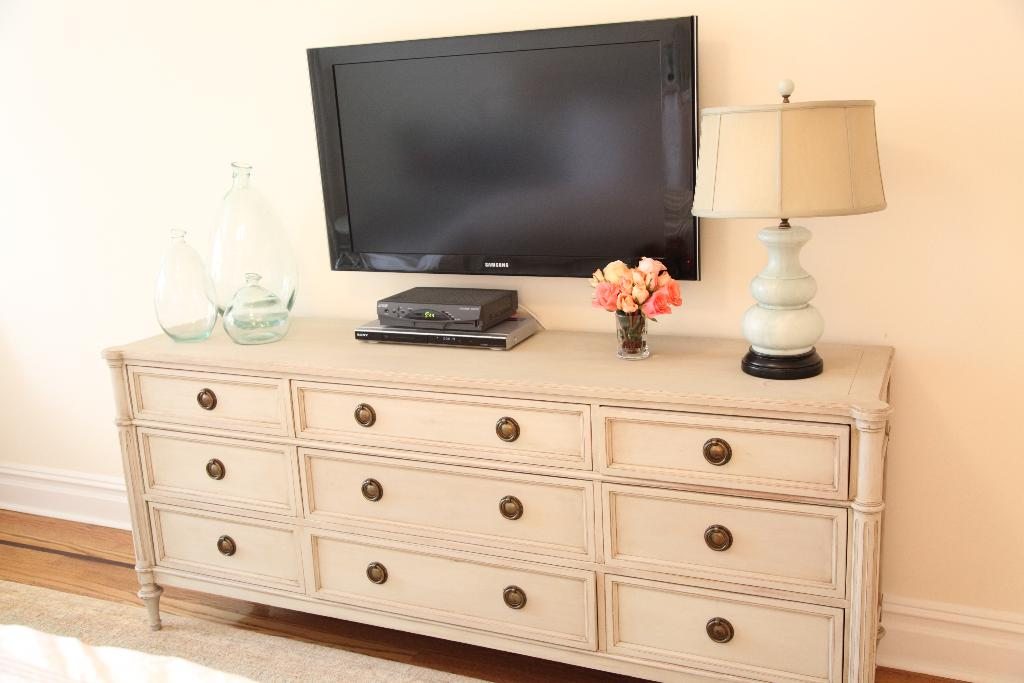cabinet door: (307, 456, 594, 548), (321, 546, 589, 637), (614, 580, 846, 681), (609, 490, 843, 578), (603, 407, 849, 490), (308, 393, 595, 464), (155, 508, 296, 593), (143, 437, 294, 516), (130, 372, 289, 431)
handle: (701, 612, 737, 649), (700, 523, 738, 557), (694, 437, 739, 464), (494, 494, 532, 524), (350, 476, 387, 505), (200, 457, 234, 484), (363, 563, 398, 587), (491, 419, 526, 441), (207, 538, 246, 557), (194, 390, 226, 412), (347, 405, 382, 424), (498, 590, 529, 610)
